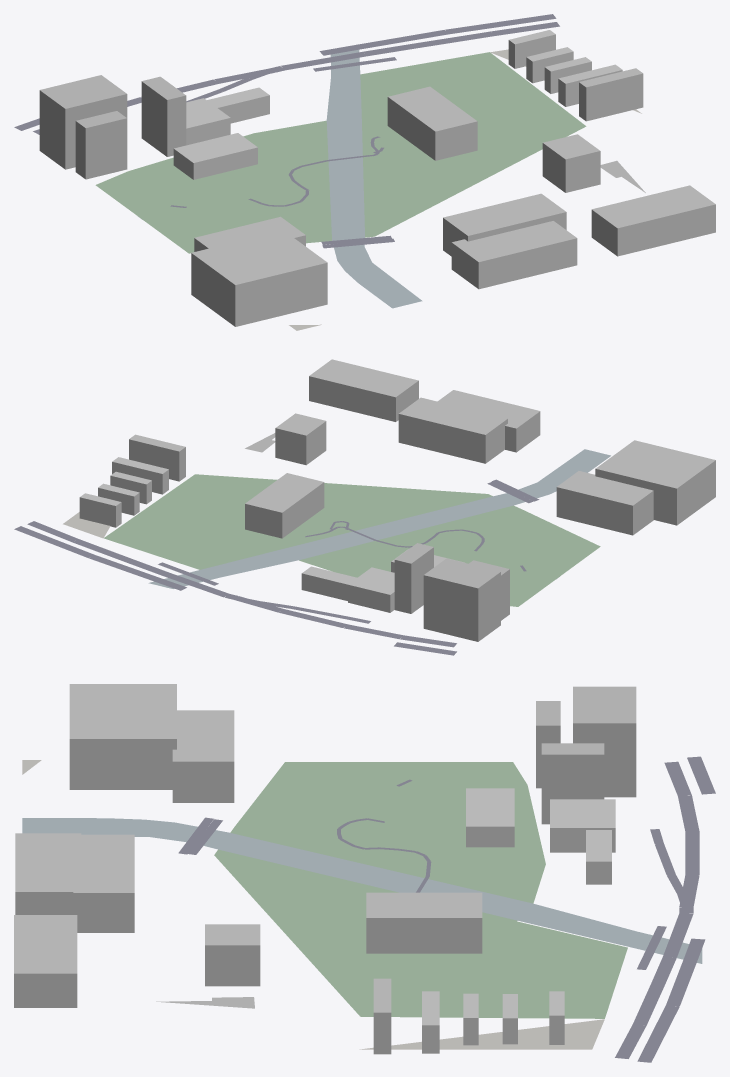
Rendered from 135_103_mid.glb.
The picture shows the model from 3 angles, top to bottom: view 1: azimuth 30°, elevation 25°; view 2: azimuth 150°, elevation 25°; view 3: azimuth 270°, elevation 25°; orthographic projection. The views are drawn at different scales.
Bounding box in the file's own units: 575 × 60.29 × 516.
